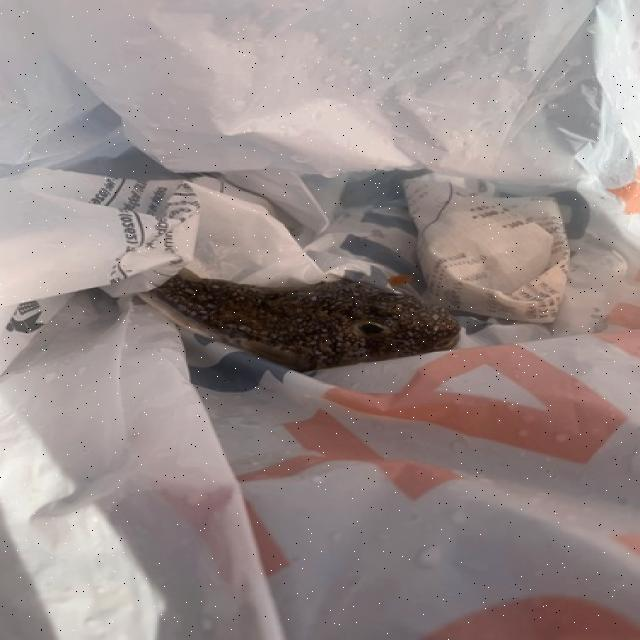Balik: (140, 271, 460, 371)
